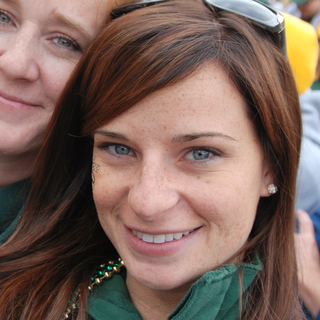eye: (94, 136, 144, 166), (171, 142, 231, 167), (41, 29, 86, 61)
